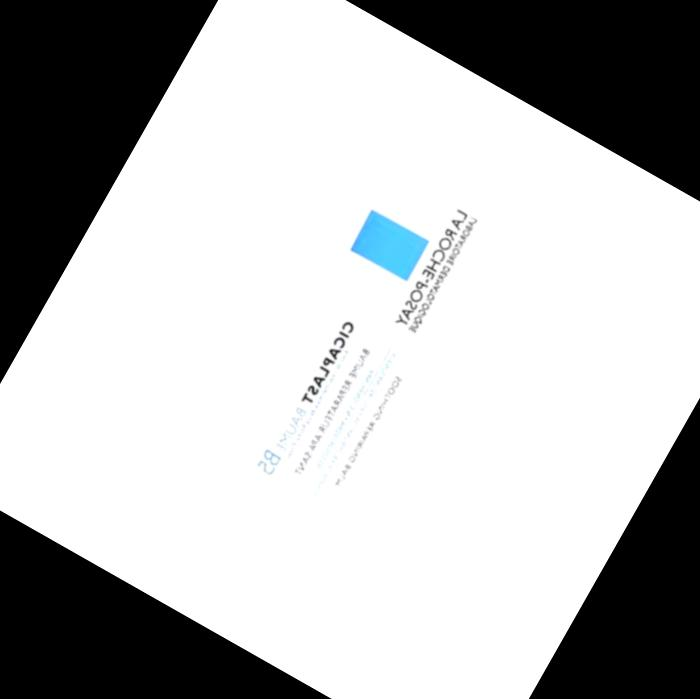cosmetic: (130, 87, 581, 648)
